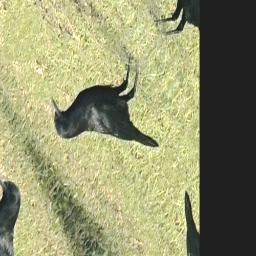Crow: (43, 17, 176, 218)
